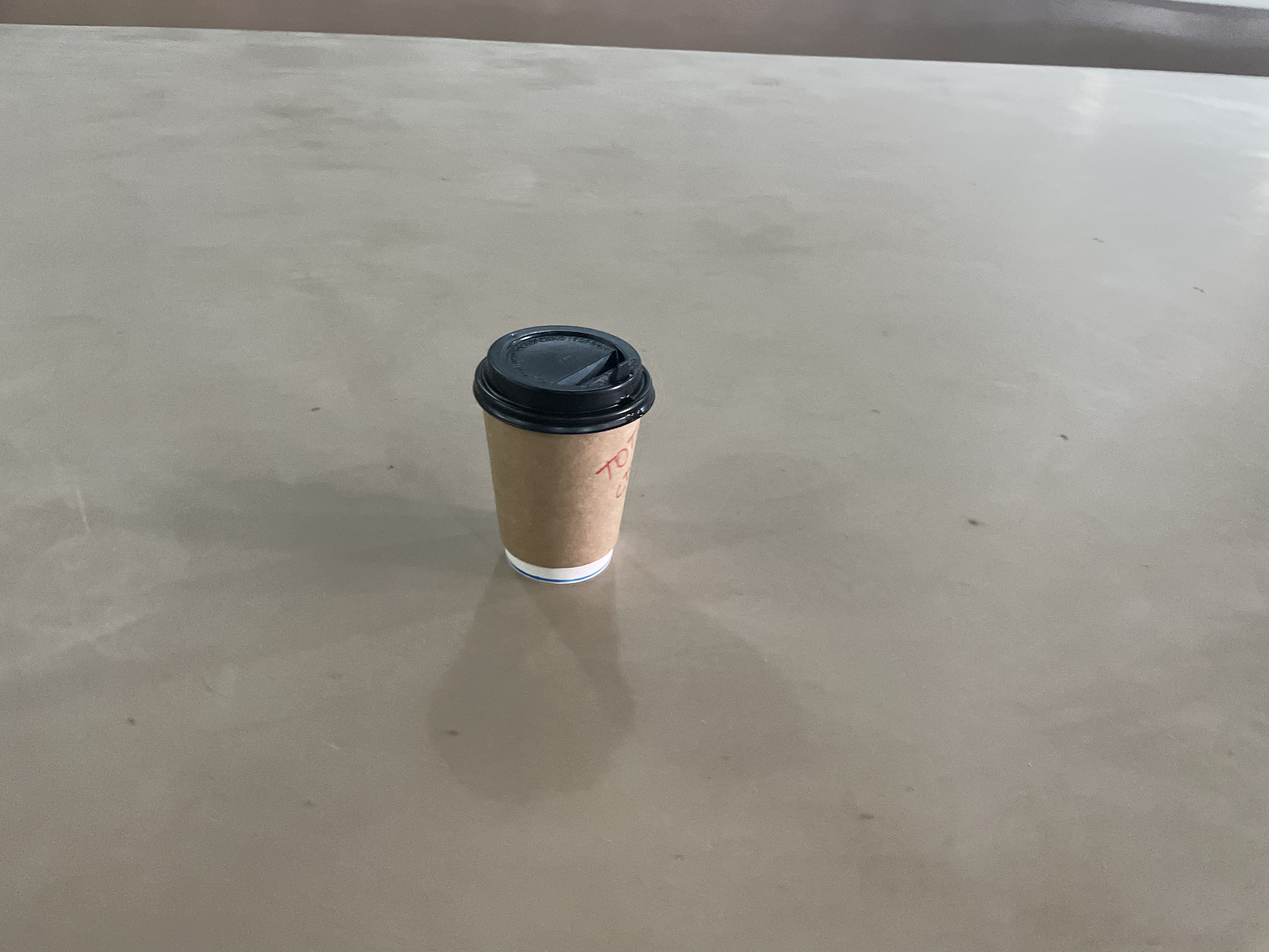cup: (474, 326, 652, 581)
